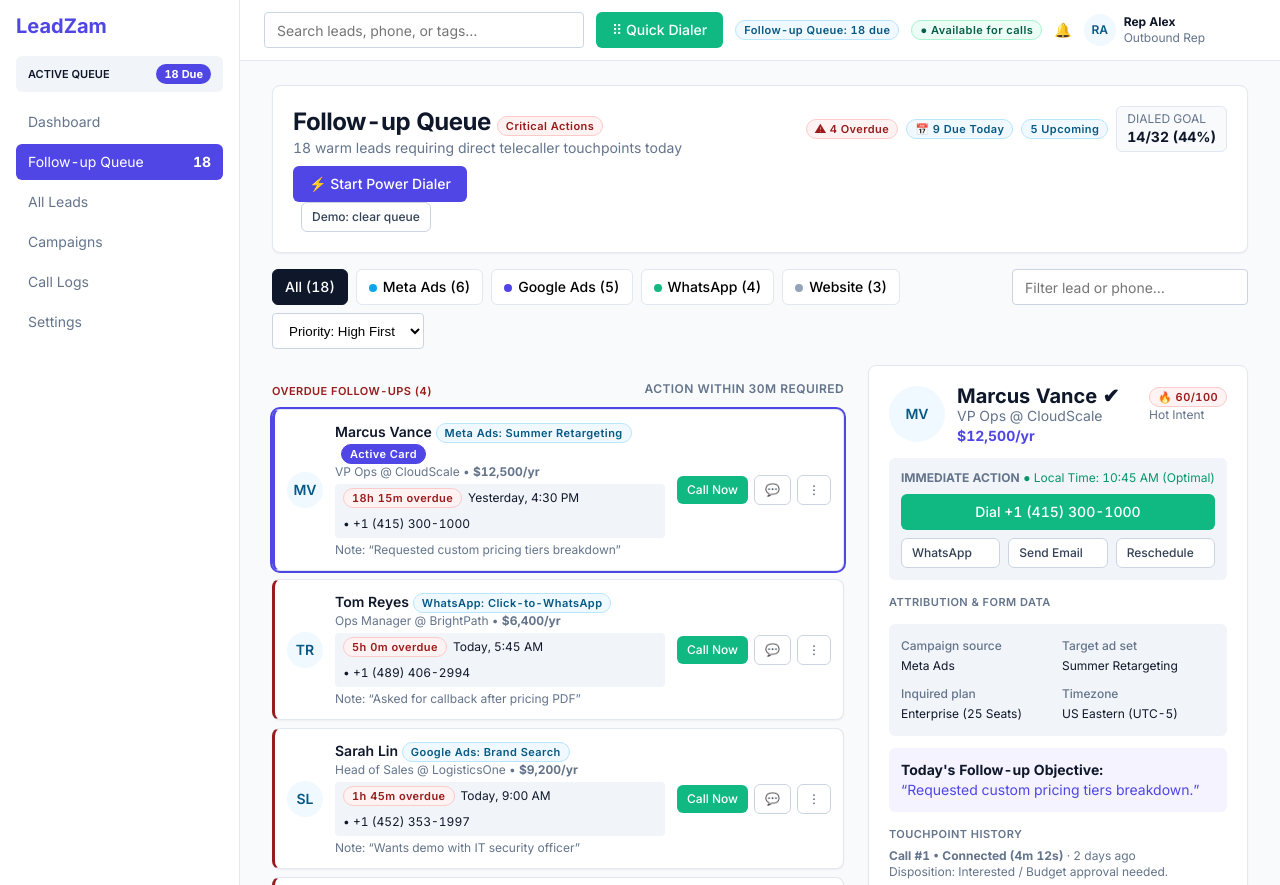
it: Follow-up Queue › filters by source and keeps the detail pane in sync
Expected: the text "Overdue follow-ups (4)" is shown, 272,381 -> 432,401
Click the button "Website (3)" at (841, 287), box 782,269 -> 900,305
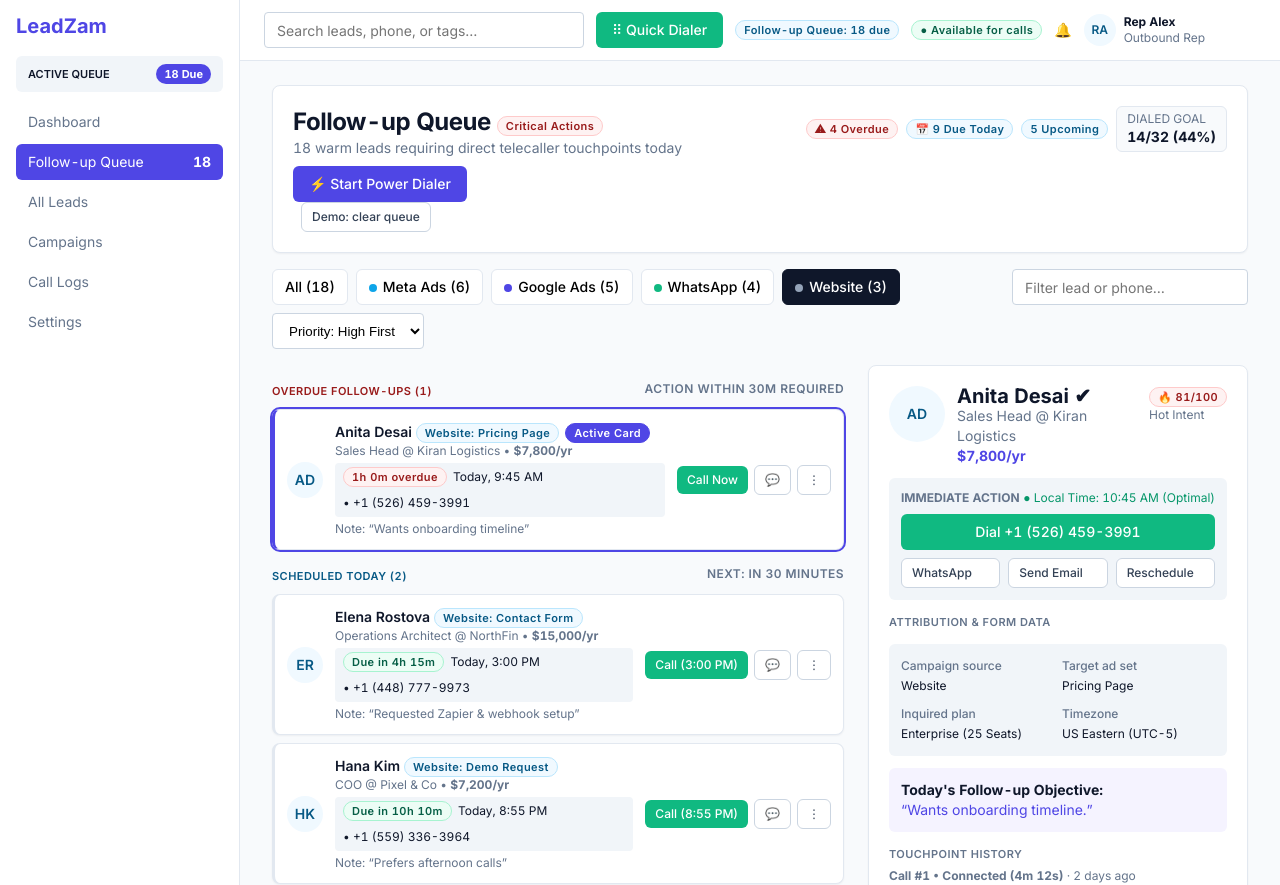
Now the heading "Anita Desai ✔" is shown, box 957,384 -> 1091,408
Now the button "Marcus Vance" is gone
